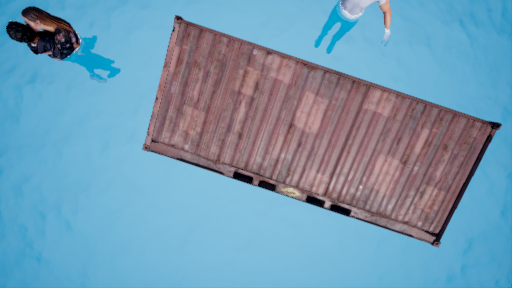person: (8, 8, 113, 80)
